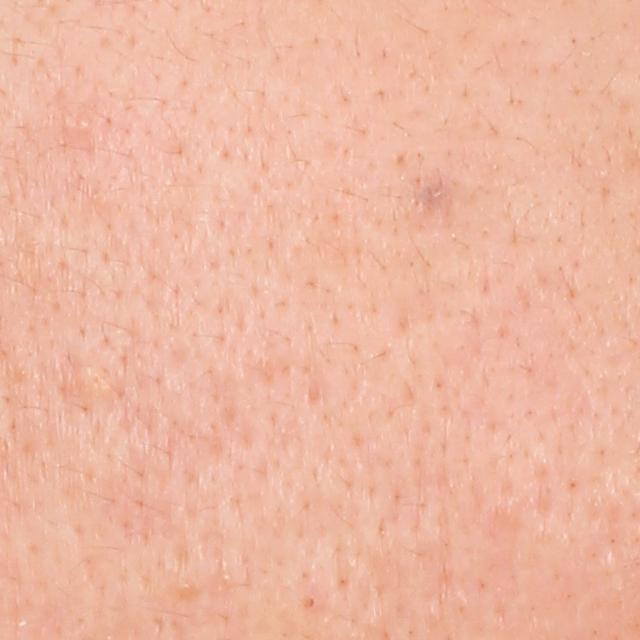comedo: (297, 590, 322, 619), (76, 115, 96, 130)
